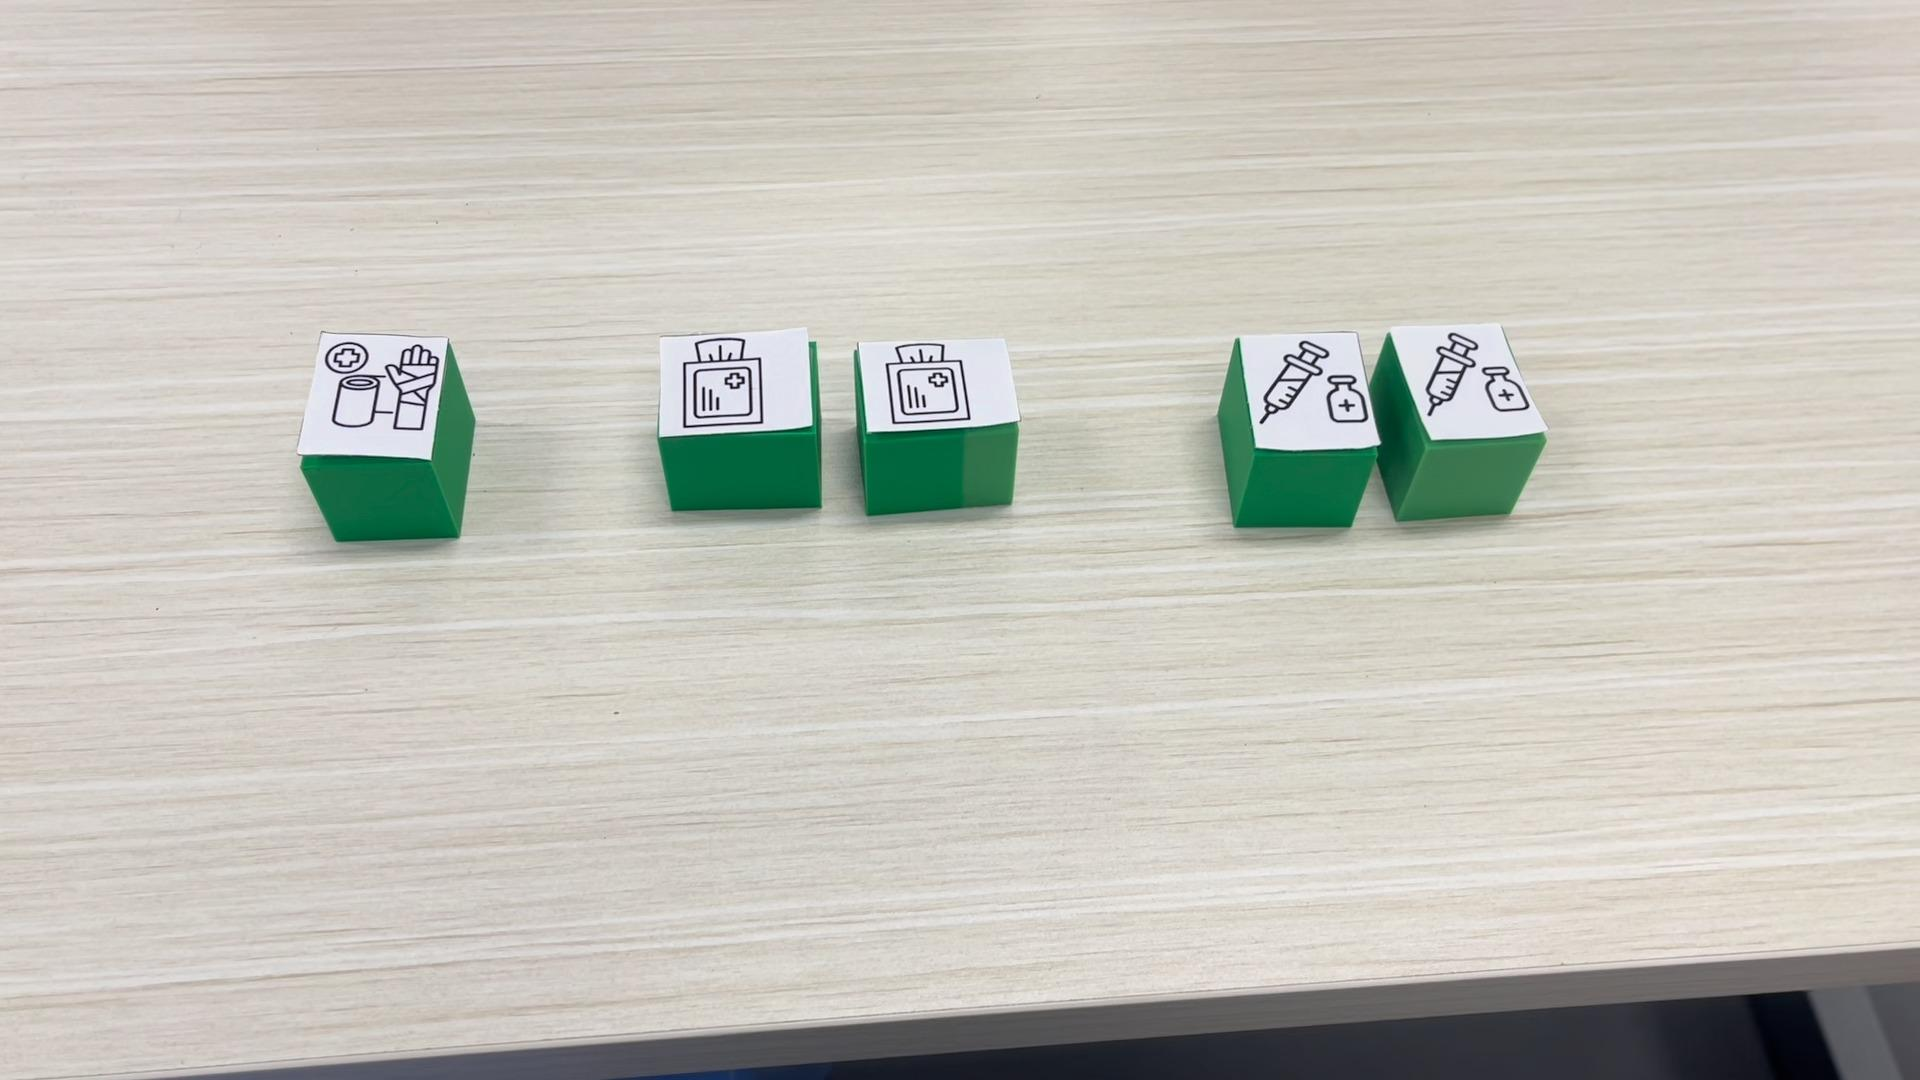Bandages: (295, 331, 473, 542)
Gauze: (852, 330, 1022, 516), (657, 324, 823, 512)
antiseptic cream: (1367, 319, 1549, 522), (1218, 330, 1382, 527)
